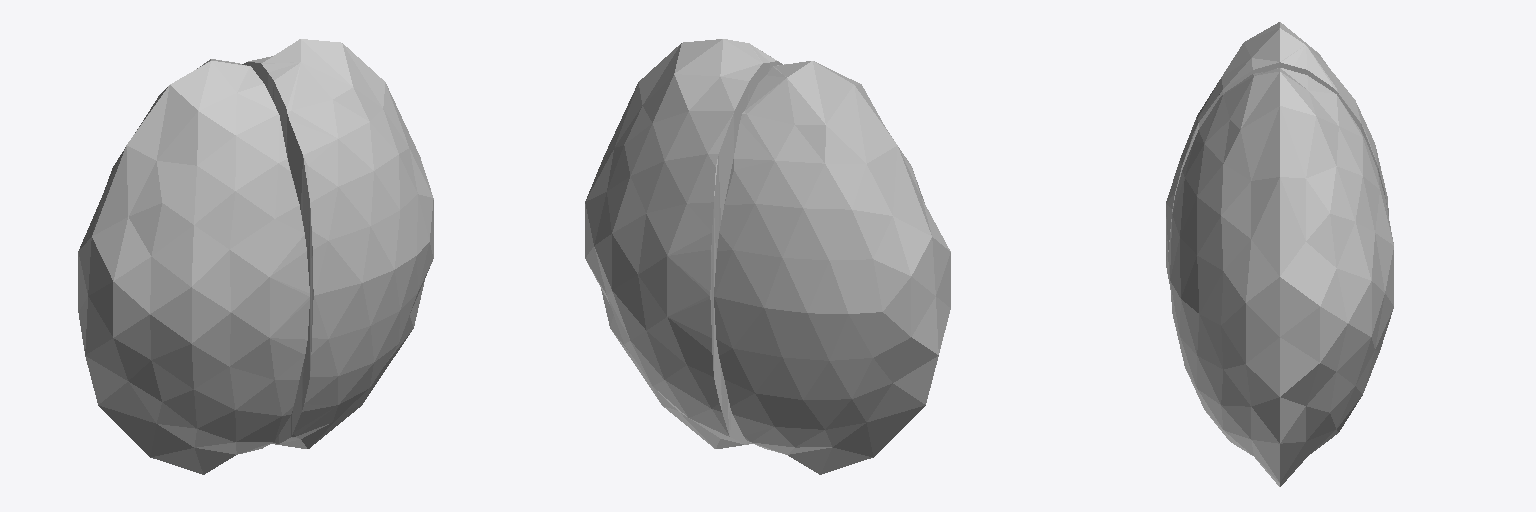
The model's file is brain3.obj.
3 views of the same model, side by side, from view 1: azimuth 30°, elevation 25°; view 2: azimuth 150°, elevation 25°; view 3: azimuth 270°, elevation 25° (orthographic).
Visible parts, largest first — view 1: GeoSphere003, GeoSphere002; view 2: GeoSphere003, GeoSphere002; view 3: GeoSphere002, GeoSphere003.
Boxes of the visible parts, x1,y1,x2,y2 form: GeoSphere003: [78, 59, 309, 474]; GeoSphere002: [242, 39, 433, 448]; GeoSphere003: [714, 61, 950, 474]; GeoSphere002: [585, 39, 782, 448]; GeoSphere002: [1168, 68, 1393, 486]; GeoSphere003: [1166, 22, 1388, 289].
Bounding box in the file's own units: 213 × 246 × 123.